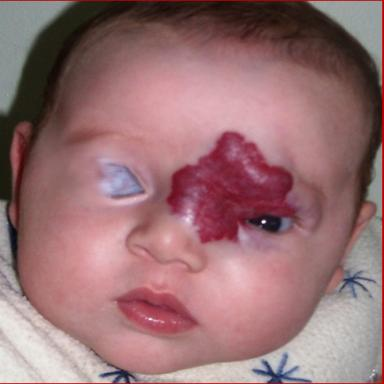Hemangiome: (167, 132, 294, 242)
